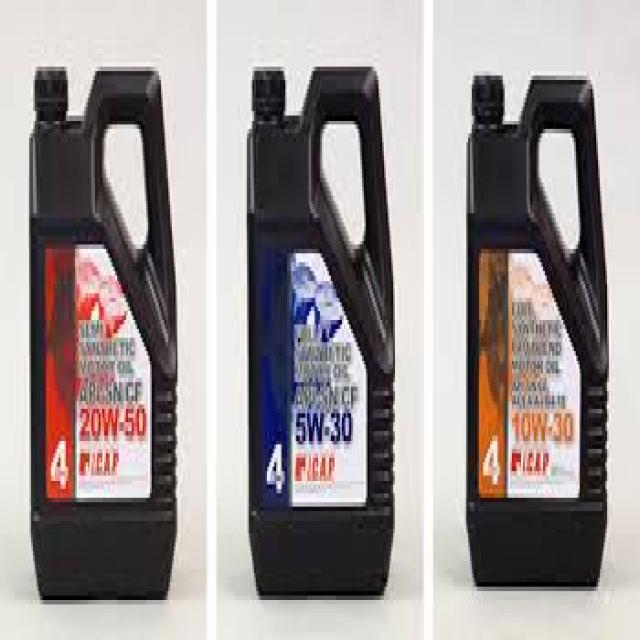motor_oil: (23, 38, 180, 607), (243, 51, 397, 603), (463, 48, 612, 597)
